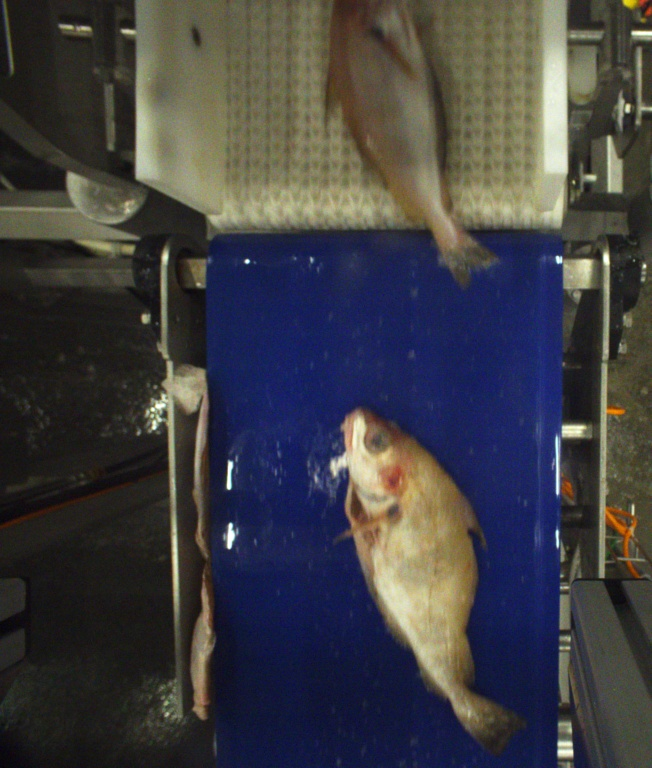BIB: (324, 0, 487, 287)
